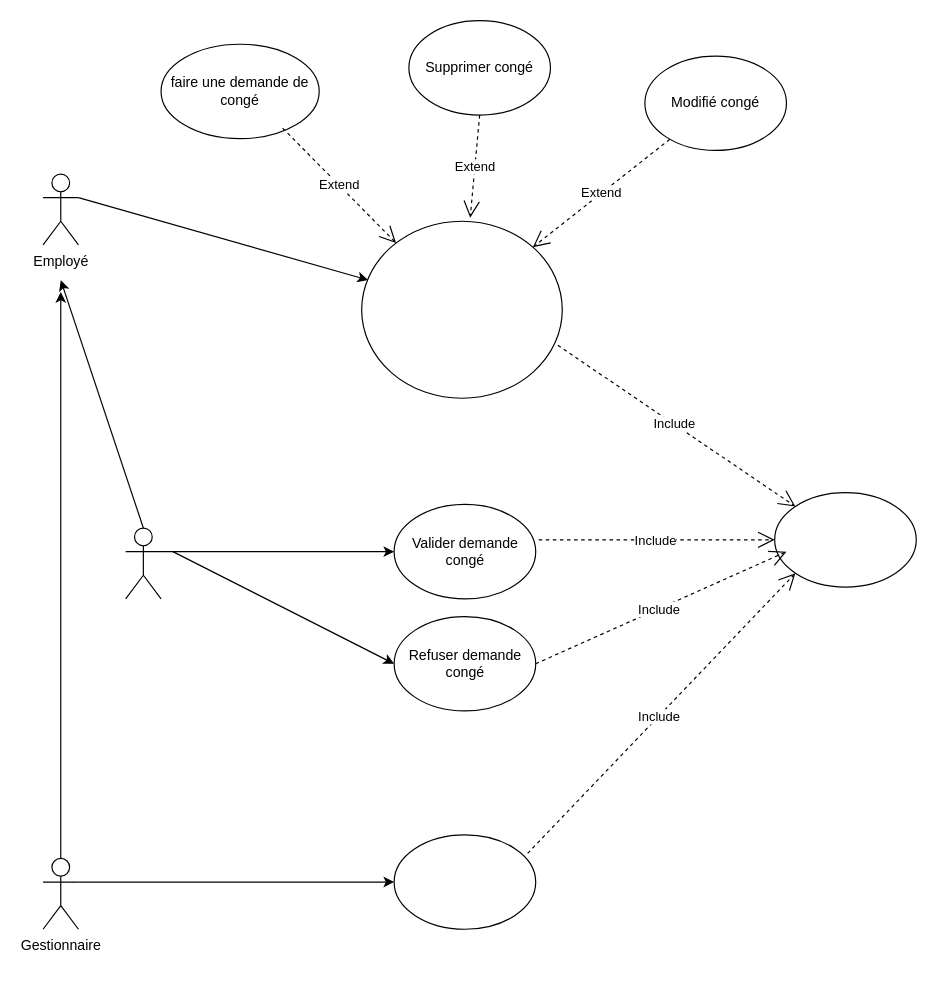
Image size: 937x992. Some labels were removed from this diagram. Here are the shapes that lost their labels. From the top down, the box of each, then its label:
(360, 220, 562, 398): Gestion Congé Employé
(773, 491, 916, 587): Etre authentifié
(124, 527, 161, 599): Manager
(393, 834, 536, 929): Chnager rôle utilisateur
